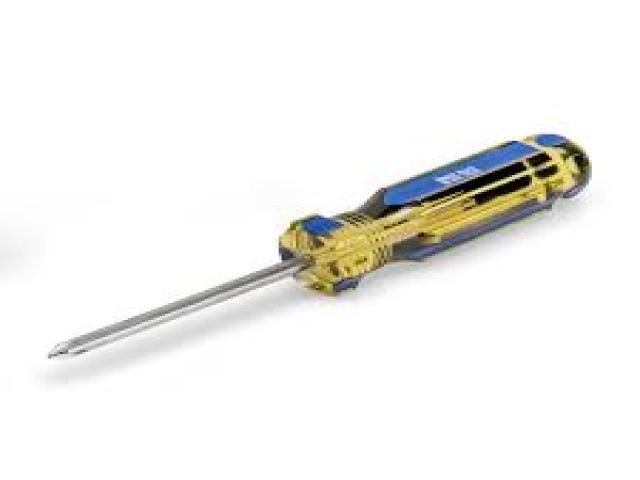Screwdriver: (52, 135, 591, 358)
